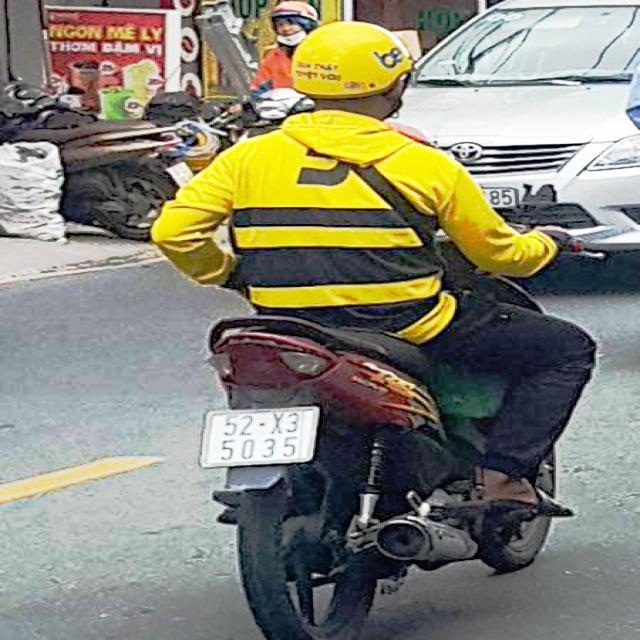license_plate: (205, 410, 318, 465)
